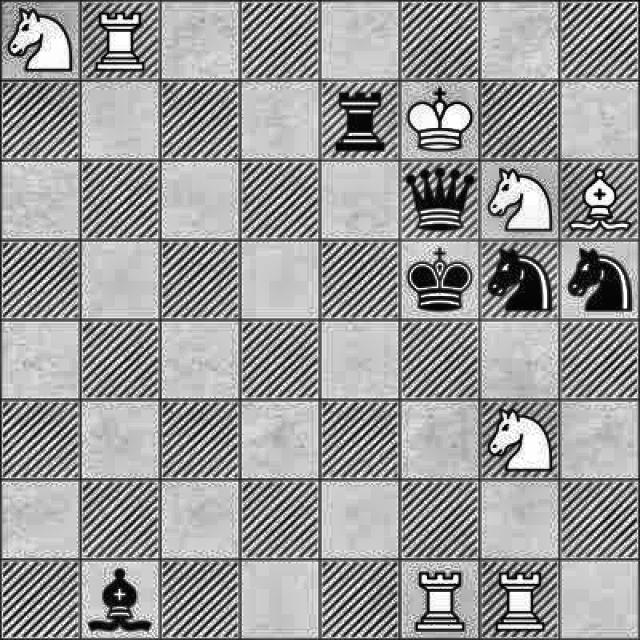Black Knight: (481, 243, 560, 321), (565, 240, 630, 317)
black bishop: (83, 563, 156, 639)
black king: (406, 240, 476, 318)
black queen: (406, 162, 475, 233)
black rook: (322, 87, 396, 158)
white bishop: (568, 159, 635, 237)
white king: (406, 81, 473, 156)
white rook: (88, 4, 154, 78), (406, 564, 472, 637), (492, 562, 548, 638)
whiteknight: (484, 400, 555, 480), (482, 161, 557, 236), (0, 0, 75, 75)
